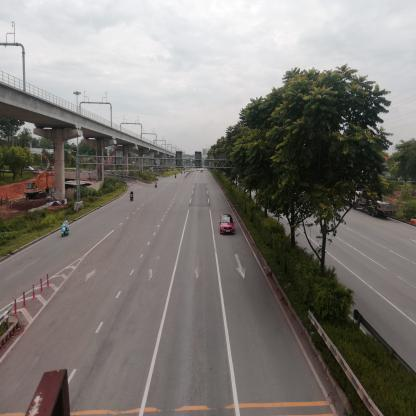car: (220, 216, 236, 236)
motorbike: (60, 220, 70, 238), (131, 192, 134, 202), (156, 183, 159, 188)
